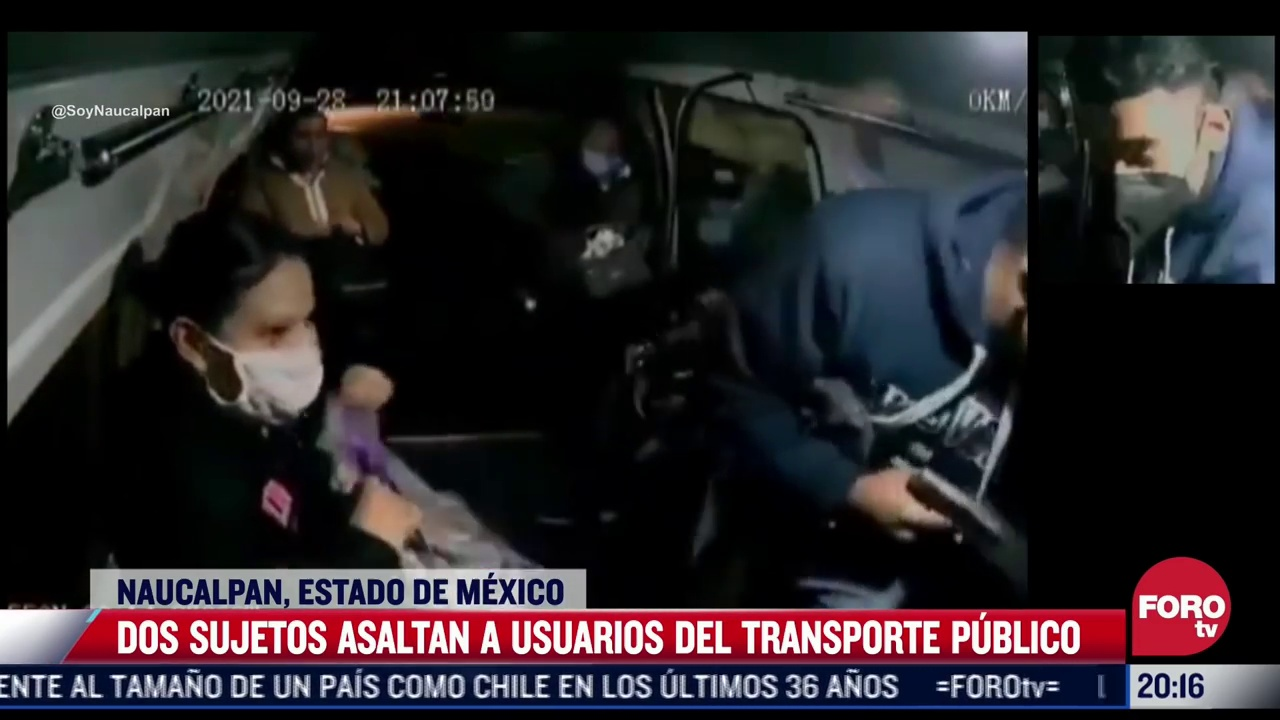pistol: (904, 466, 1014, 551)
